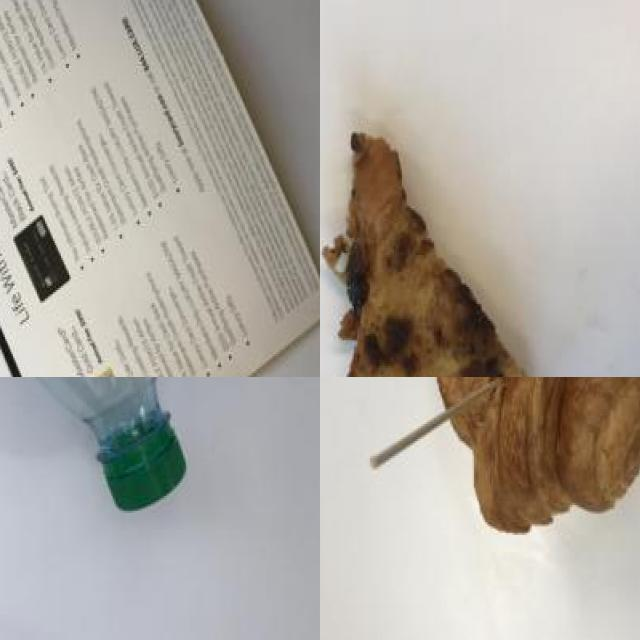compost: (320, 121, 562, 377), (395, 377, 640, 539)
paper: (0, 0, 320, 377)
plastic: (0, 377, 202, 511)
